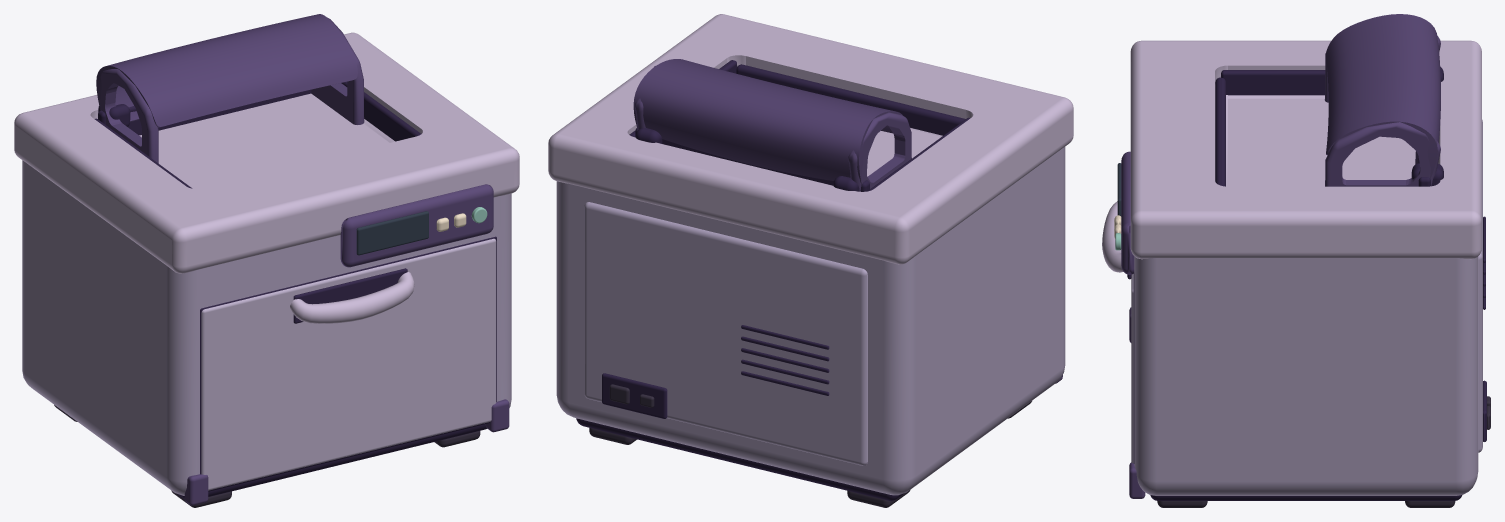
File: printer.glb
3 renders of one model, left to right at view 1: azimuth 30°, elevation 25°; view 2: azimuth 150°, elevation 25°; view 3: azimuth 270°, elevation 25°, orthographic. The views are drawn at different scales.
Parts seen in each view (by area): view 1: Rounded upper cover_export, Front paper drawer_export, Rounded closed main housing_export, Upstanding rear paper guide_export, Control panel bezel_export, Curved drawer pull_export, Rear guide side return_export, Blank display_export, Rear guide side return.001_export, Drawer grip recess_export, Sealed underside panel_export, Paper drawer perimeter recess_export (+4 smaller); view 2: Rounded closed main housing_export, Rounded upper cover_export, Rear service panel_export, Upstanding rear paper guide_export, Output front lip_export, Rear guide side return_export, Sealed underside panel_export, Rear connector recess_export, Output rear throat_export; view 3: Rounded closed main housing_export, Rounded upper cover_export, Upstanding rear paper guide_export, Rear guide side return.001_export, Output left inner wall_export, Sealed underside panel_export, Control panel bezel_export, Output front lip_export, Rear service panel_export, Curved drawer pull_export, Front paper drawer_export.
Part boxes in pixels (x1,y1,x2,y2): Rounded upper cover_export: (14, 32, 519, 273); Front paper drawer_export: (201, 238, 496, 490); Rounded closed main housing_export: (22, 160, 511, 495); Upstanding rear paper guide_export: (96, 14, 357, 127); Control panel bezel_export: (340, 184, 493, 267); Curved drawer pull_export: (290, 272, 414, 323); Rear guide side return_export: (100, 69, 158, 163); Blank display_export: (356, 211, 428, 255); Rear guide side return.001_export: (311, 17, 364, 124); Drawer grip recess_export: (293, 268, 407, 323); Sealed underside panel_export: (177, 424, 487, 499); Paper drawer perimeter recess_export: (200, 236, 496, 491); Rounded closed main housing_export: (556, 65, 1065, 495); Rounded upper cover_export: (548, 14, 1073, 264); Rear service panel_export: (584, 202, 867, 465); Upstanding rear paper guide_export: (633, 59, 902, 184); Output front lip_export: (736, 64, 965, 135); Rear guide side return_export: (848, 112, 911, 191); Sealed underside panel_export: (576, 418, 904, 500); Rear connector recess_export: (602, 373, 667, 418); Output rear throat_export: (635, 128, 869, 191); Rounded closed main housing_export: (1134, 76, 1478, 495); Rounded upper cover_export: (1130, 40, 1481, 259); Upstanding rear paper guide_export: (1326, 14, 1440, 178); Rear guide side return.001_export: (1325, 120, 1440, 186); Output left inner wall_export: (1221, 70, 1325, 95); Sealed underside panel_export: (1150, 495, 1462, 500); Control panel bezel_export: (1121, 151, 1134, 274); Output front lip_export: (1215, 77, 1225, 186); Rear service panel_export: (1478, 119, 1482, 452); Curved drawer pull_export: (1102, 201, 1123, 272); Front paper drawer_export: (1131, 274, 1133, 463).
Size of the model in its own units: 0.5 by 0.48 by 0.46.
